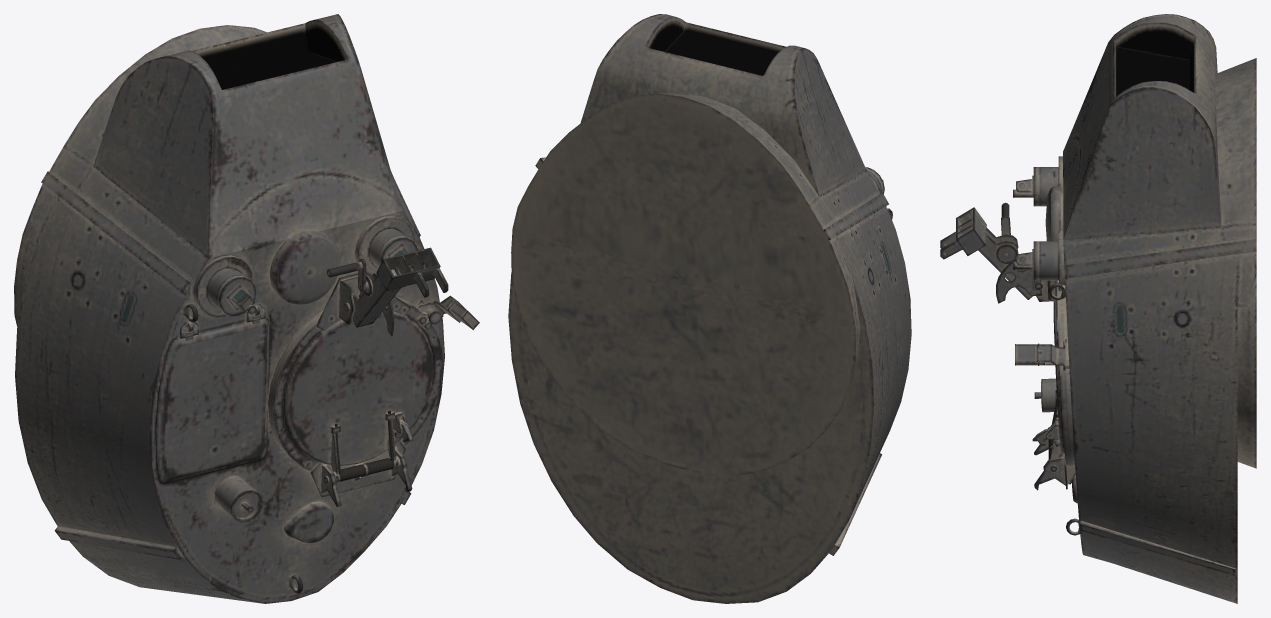
File: Turret_01.glb
The picture shows the model from 3 angles, left to right: view 1: azimuth 30°, elevation 25°; view 2: azimuth 150°, elevation 25°; view 3: azimuth 270°, elevation 25°; orthographic projection. The views are drawn at different scales.
Parts seen in each view (by area): view 1: set_0_group_0; view 2: set_0_group_0; view 3: set_0_group_0.
Boxes of the visible parts, bbox=[...] form: set_0_group_0: bbox=[14, 14, 479, 603]; set_0_group_0: bbox=[508, 14, 911, 603]; set_0_group_0: bbox=[940, 14, 1256, 603].
Bounding box in the file's own units: 1.44 × 2 × 1.06.
Materials: 1 (1 with a texture image).
